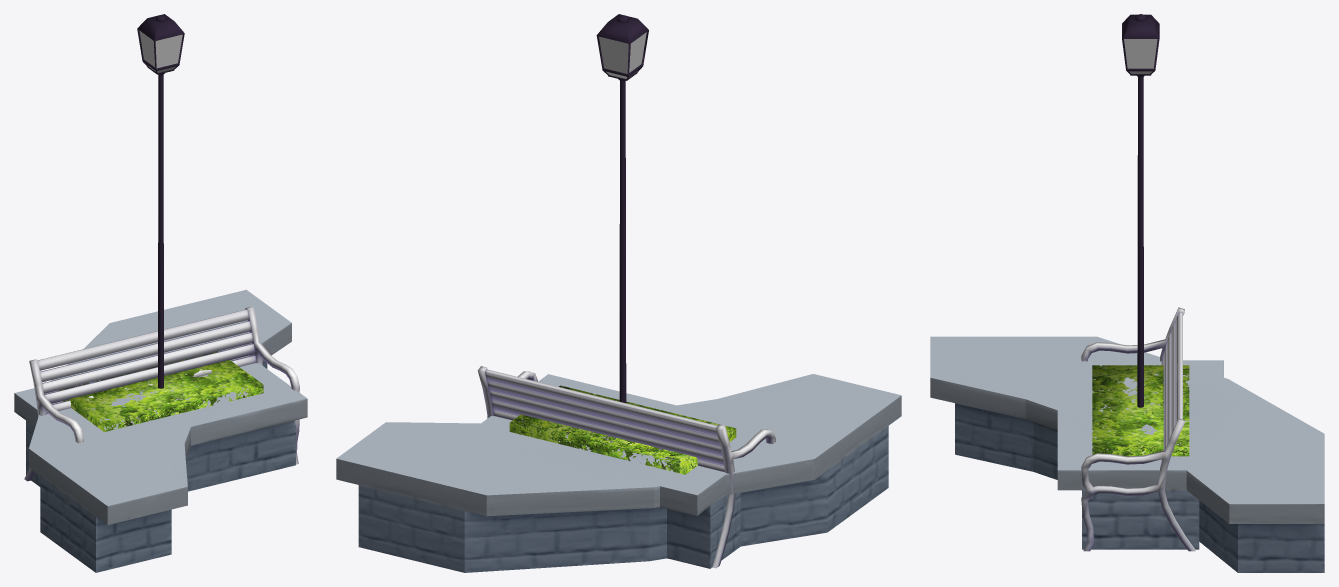
The model's file is garden_obj.fbx.
3 renders of one model, left to right at view 1: azimuth 30°, elevation 25°; view 2: azimuth 150°, elevation 25°; view 3: azimuth 270°, elevation 25°, orthographic. The views are drawn at different scales.
Visible parts, largest first — view 1: garden_part02, gardan_seat01, garden_part01, garden_grass01, lamppost, lamppost_glass; view 2: garden_part02, gardan_seat01, garden_part01, garden_grass01, lamppost, lamppost_glass; view 3: garden_part02, garden_part01, garden_grass01, gardan_seat01, lamppost, lamppost_glass.
Part boxes in pixels (<box>): garden_part02: <box>28,289,291,572</box>; gardan_seat01: <box>24,307,299,481</box>; garden_part01: <box>14,355,307,491</box>; garden_grass01: <box>58,351,263,431</box>; lamppost: <box>137,14,184,388</box>; lamppost_glass: <box>139,30,182,72</box>; garden_part02: <box>336,374,901,572</box>; gardan_seat01: <box>477,366,775,568</box>; garden_part01: <box>481,374,740,568</box>; garden_grass01: <box>509,385,736,474</box>; lamppost: <box>596,14,648,403</box>; lamppost_glass: <box>599,32,646,78</box>; garden_part02: <box>930,336,1324,572</box>; garden_part01: <box>1057,360,1223,549</box>; garden_grass01: <box>1092,365,1189,456</box>; gardan_seat01: <box>1081,307,1195,551</box>; lamppost: <box>1122,14,1159,413</box>; lamppost_glass: <box>1124,39,1157,73</box>.
Size of the model in its own units: 1347 by 1800 by 1339.
